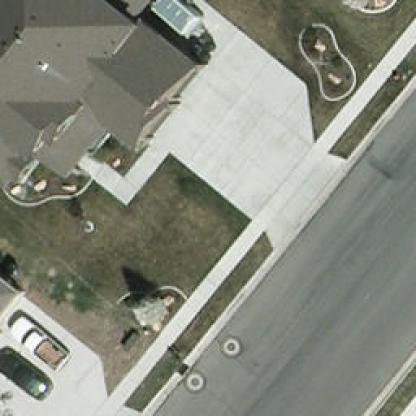camping car: (150, 0, 210, 44)
car: (0, 349, 54, 403)
pickup: (6, 312, 72, 372)
